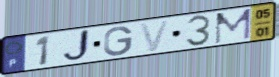1: (32, 34, 52, 68)
3: (184, 14, 213, 48)
G: (102, 25, 135, 57)
J: (61, 28, 92, 64)
M: (212, 7, 253, 46)
V: (138, 19, 172, 54)
